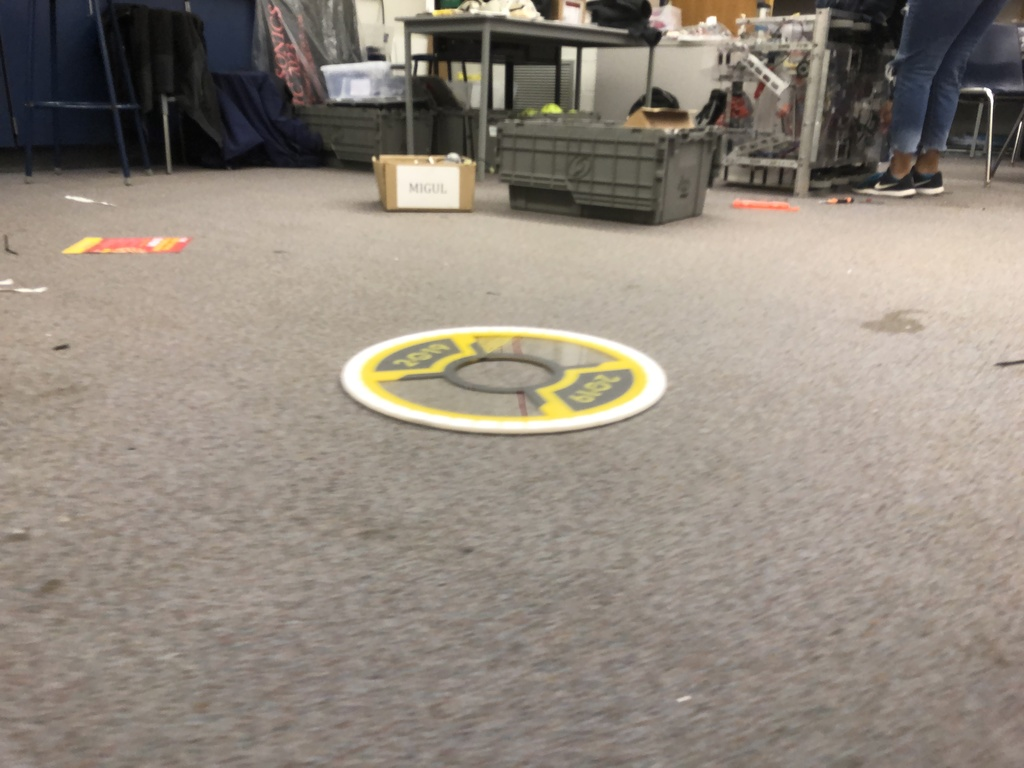hatch_panel: (330, 309, 697, 442)
